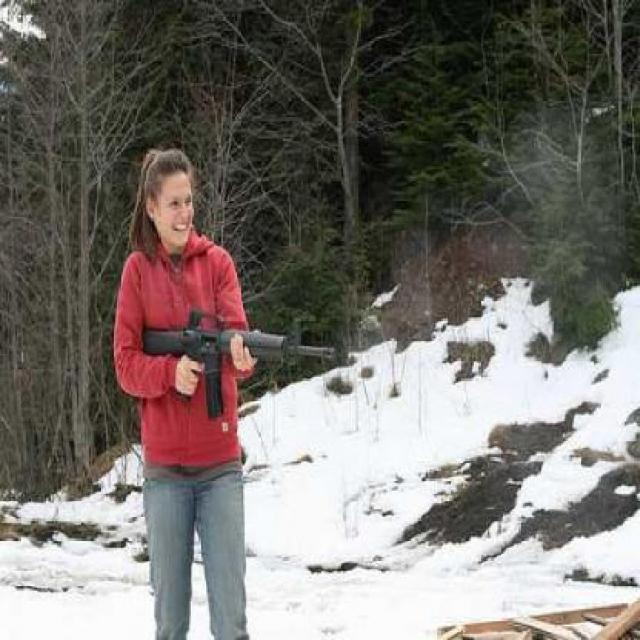weapon: (138, 313, 334, 414)
